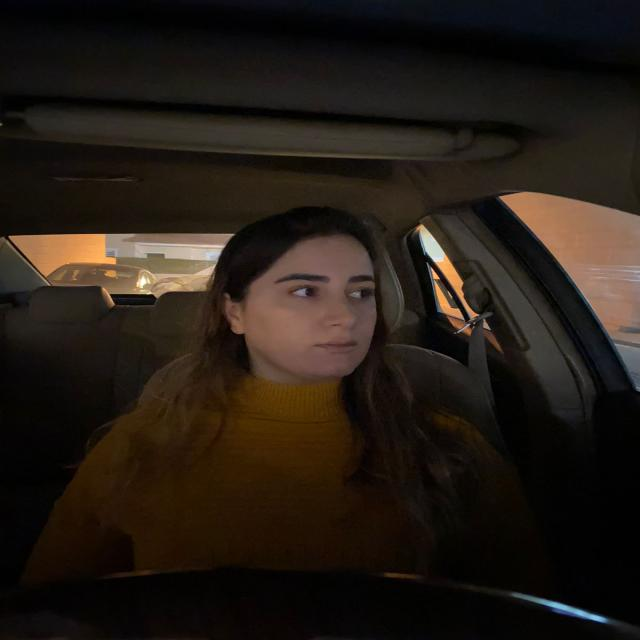person: (208, 198, 411, 394)
